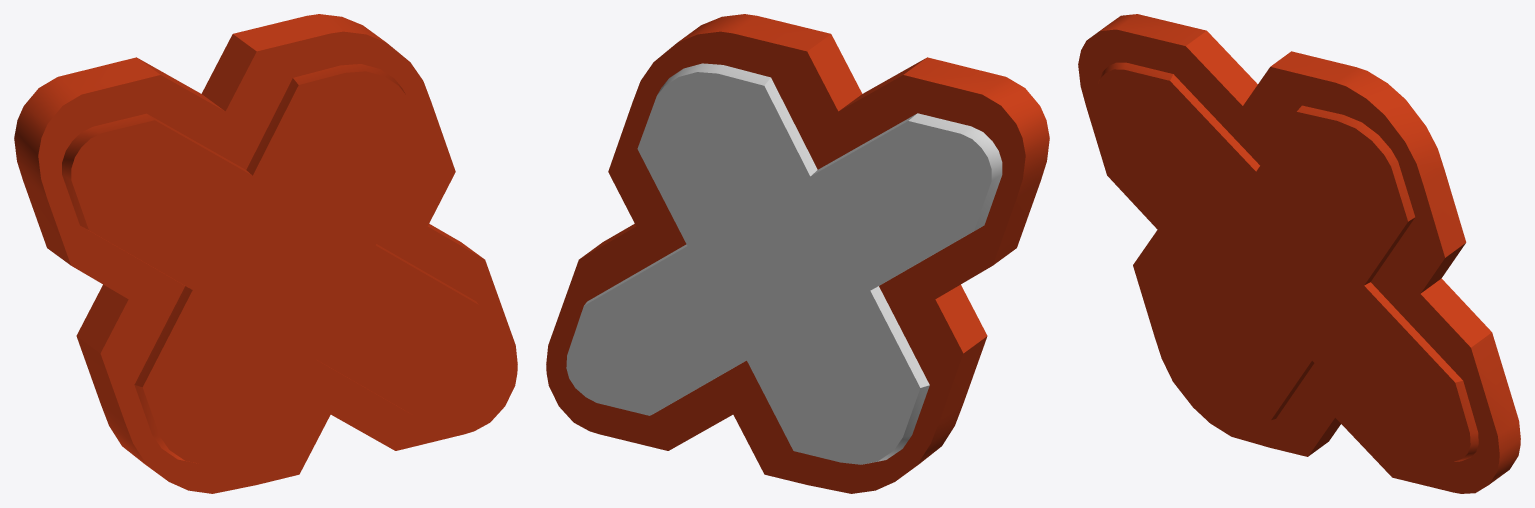
The model's file is x_copy.ico.obj.
3 renders of one model, left to right at view 1: azimuth 30°, elevation 25°; view 2: azimuth 150°, elevation 25°; view 3: azimuth 330°, elevation 25°, orthographic. The views are drawn at different scales.
Bounding box in the file's own units: 4.71 × 4.07 × 0.6284.
Materials: 1 (1 with a texture image).
